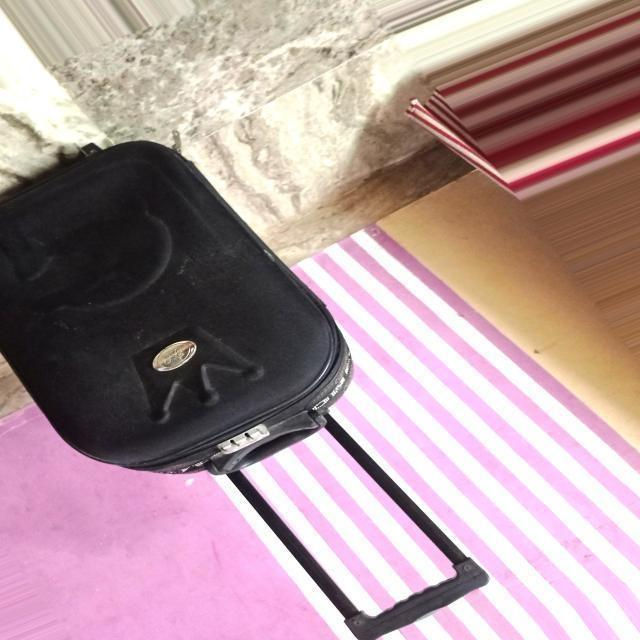Suitcase: (2, 154, 510, 640)
